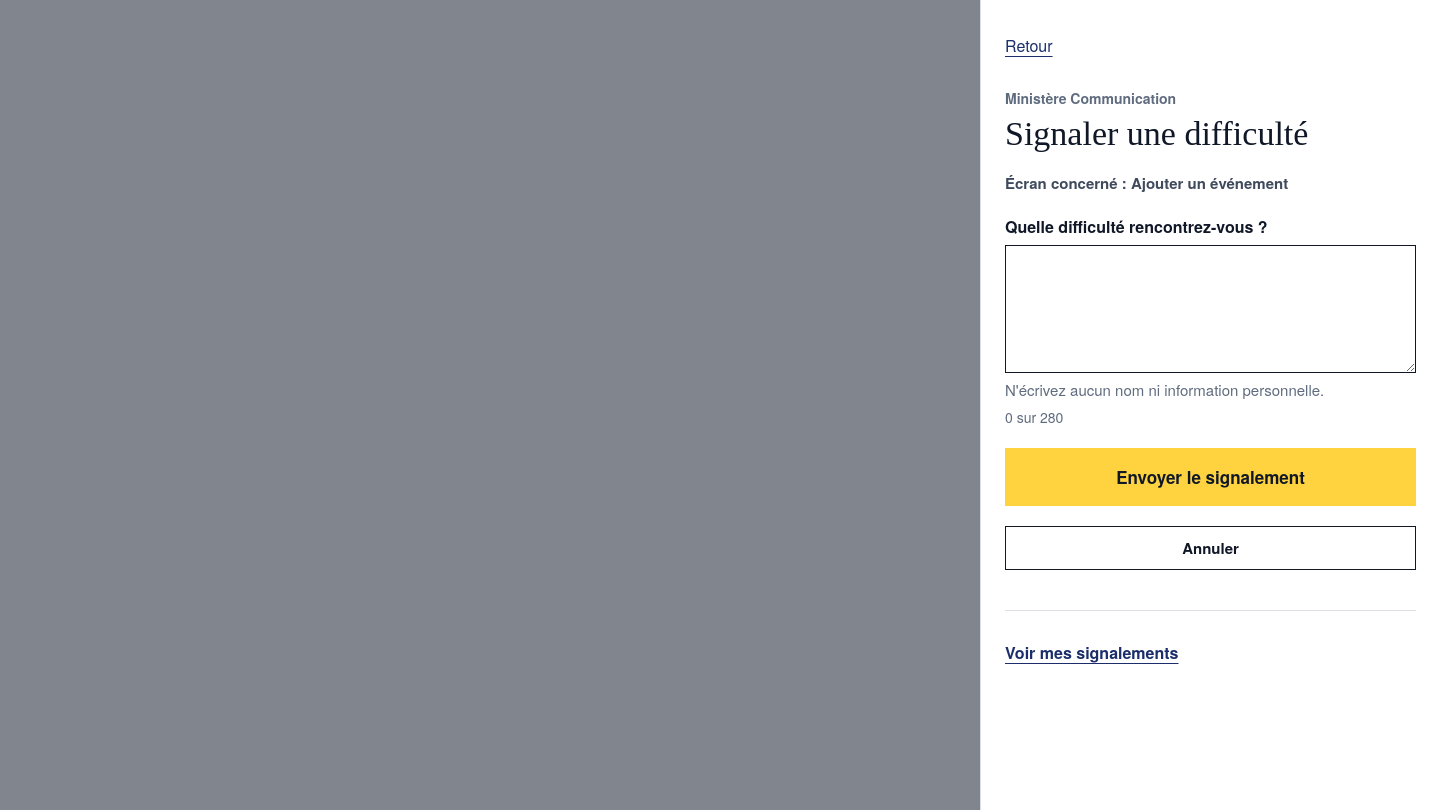
« Signaler une difficulté » › envoi réussi : l’écran et le texte partent, la confirmation dit la suite, champ vidé
This screenshot has width=1440, height=810.
Type "  Je ne peux pas choisir la date.  " into the text box labelled "Quelle difficulté rencontrez-vous ?" at (1210, 309), box [1005,245,1416,373]
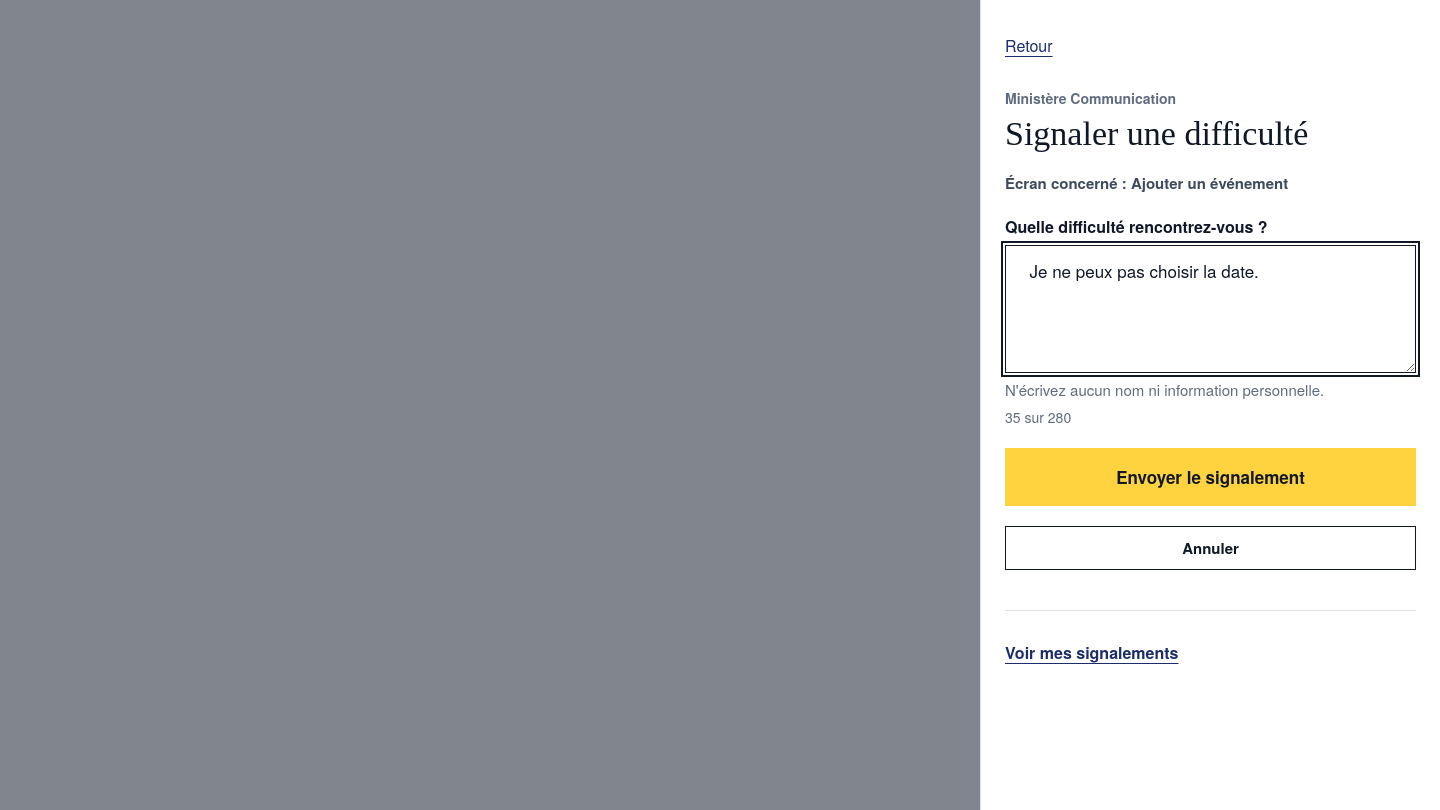
Click the button named "Envoyer le signalement" at (1210, 477), box [1005,448,1416,506]
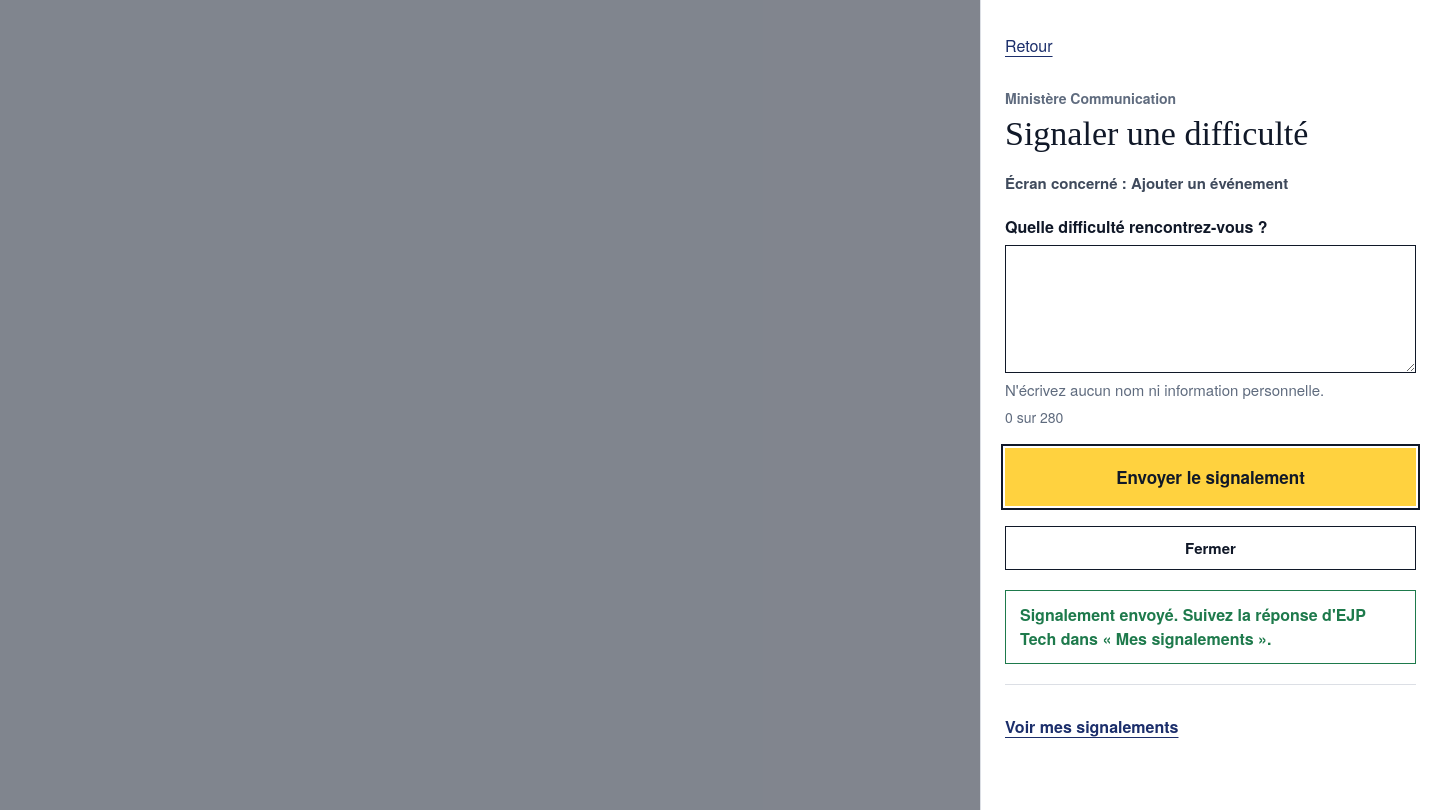
Check: the text "Signalement envoyé. Suivez la réponse d'EJP Tech dans « Mes signalements »." is shown, box [1005,590,1416,664]
Check: the text box labelled "Quelle difficulté rencontrez-vous ?" is empty, box [1005,245,1416,373]
